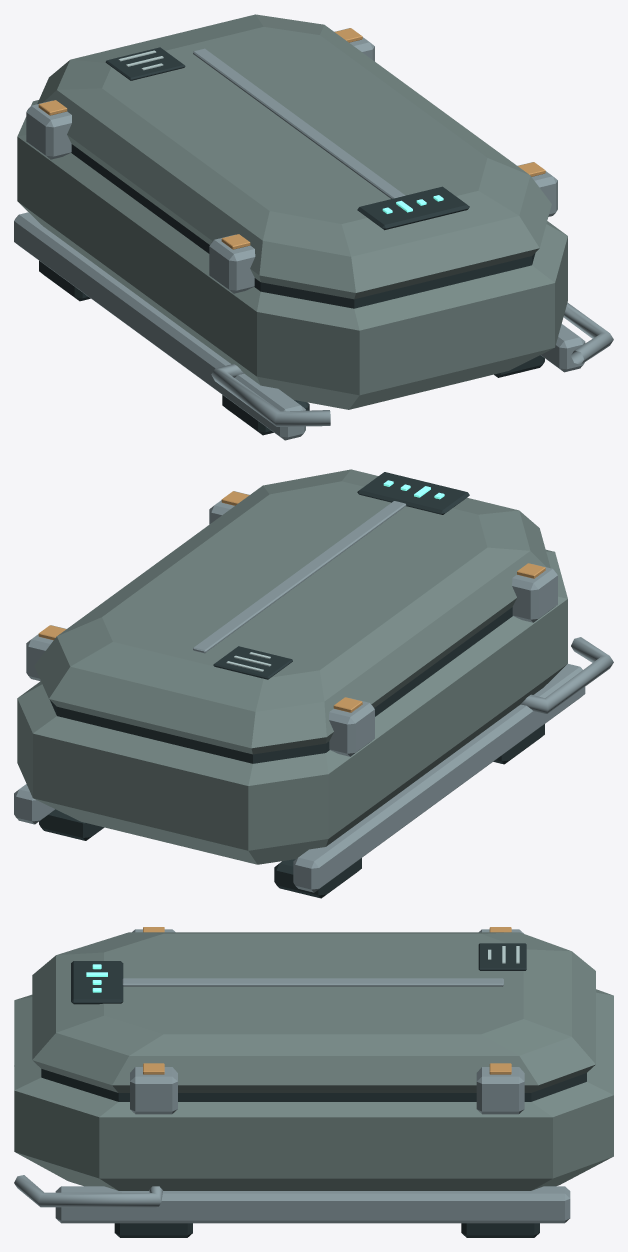
The model's file is cryo-review.glb.
3 views of the same model, one above another, from view 1: azimuth 30°, elevation 25°; view 2: azimuth 150°, elevation 25°; view 3: azimuth 270°, elevation 25° (orthographic). The views are drawn at different scales.
Parts seen in each view (by area): view 1: cryo-ceramic, cryo-machined, cryo-seal, cryo-safety; view 2: cryo-ceramic, cryo-machined, cryo-seal, cryo-safety; view 3: cryo-ceramic, cryo-machined, cryo-seal, cryo-safety.
Boxes of the visible parts, left/top/right/bottom form: cryo-ceramic: left=17, top=14, right=567, bottom=409; cryo-machined: left=14, top=28, right=613, bottom=440; cryo-seal: left=39, top=47, right=544, bottom=435; cryo-safety: left=38, top=28, right=545, bottom=249; cryo-ceramic: left=17, top=469, right=567, bottom=864; cryo-machined: left=14, top=491, right=613, bottom=892; cryo-seal: left=39, top=472, right=544, bottom=898; cryo-safety: left=38, top=491, right=545, bottom=712; cryo-ceramic: left=14, top=932, right=613, bottom=1190; cryo-machined: left=14, top=929, right=570, bottom=1223; cryo-seal: left=41, top=943, right=586, bottom=1237; cryo-safety: left=143, top=927, right=511, bottom=1074.
Size of the model in its own units: 1.7 by 0.993 by 2.75.
